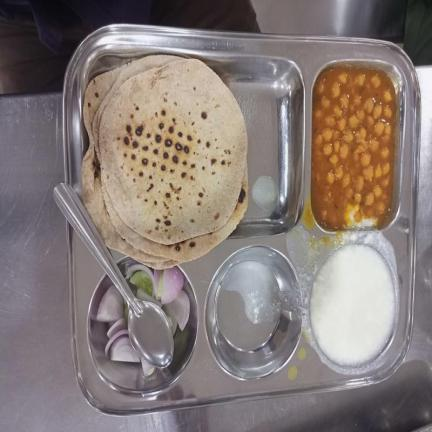Chhole: (312, 67, 397, 229)
Dahi: (310, 245, 394, 364)
Plate: (62, 24, 422, 417)
Roti: (80, 53, 249, 270)
Salad: (99, 264, 193, 374)
